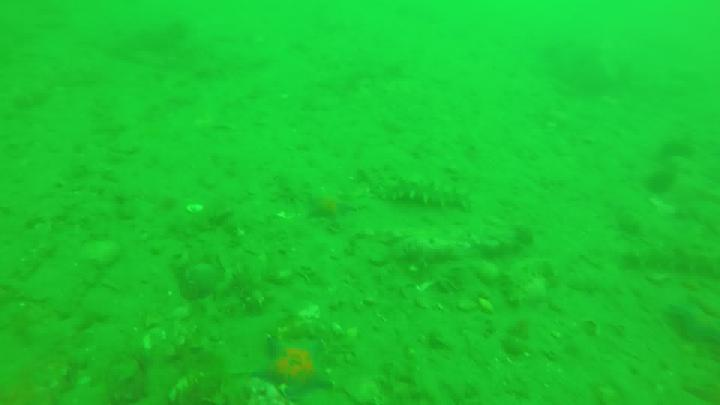holothurian: (368, 174, 471, 212), (639, 242, 720, 279)
scallop: (188, 203, 207, 217)
starfish: (250, 327, 337, 399), (668, 292, 720, 339)
